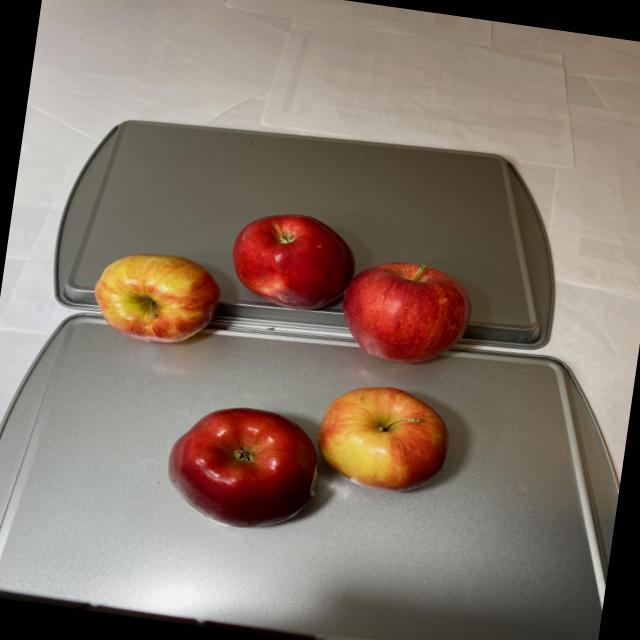apple: (89, 186, 486, 387), (156, 360, 460, 554)
